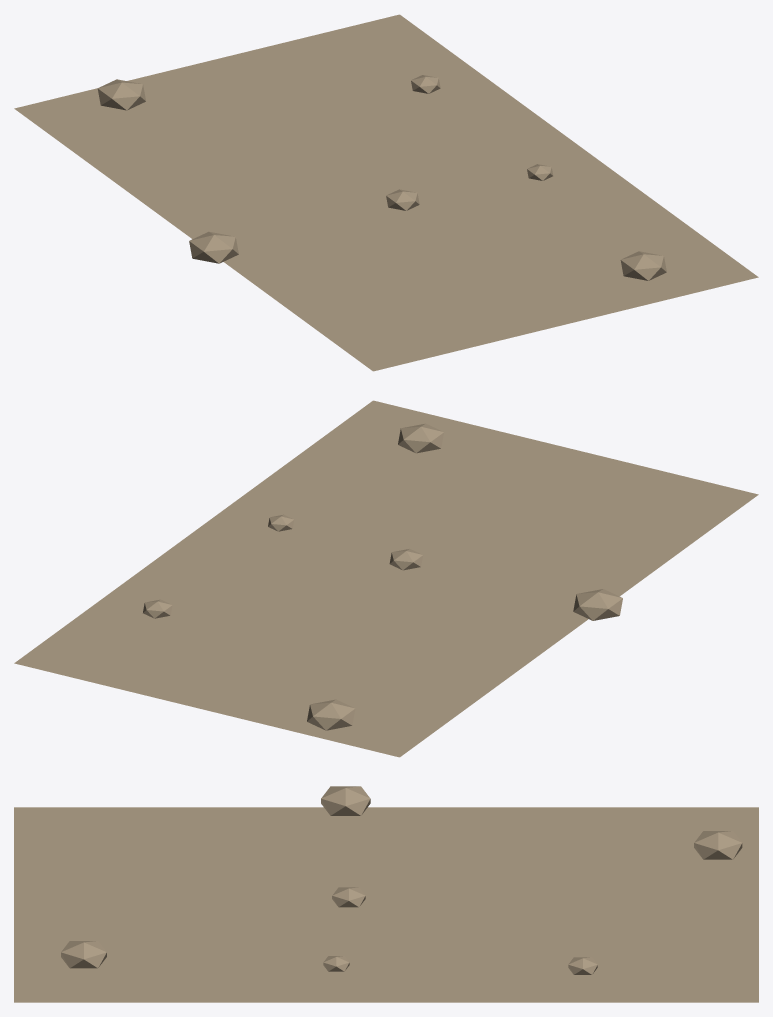
File: road_dirt_straight.glb
The picture shows the model from 3 angles, top to bottom: view 1: azimuth 30°, elevation 25°; view 2: azimuth 150°, elevation 25°; view 3: azimuth 270°, elevation 25°; orthographic projection. The views are drawn at different scales.
Visible parts, largest first — view 1: s; view 2: s; view 3: s.
Part boxes in pixels (left/top/right/bottom): s: left=14, top=14, right=758, bottom=371; s: left=14, top=400, right=758, bottom=757; s: left=14, top=786, right=758, bottom=1002.
Size of the model in its own units: 1.31 by 0.0781 by 2.
